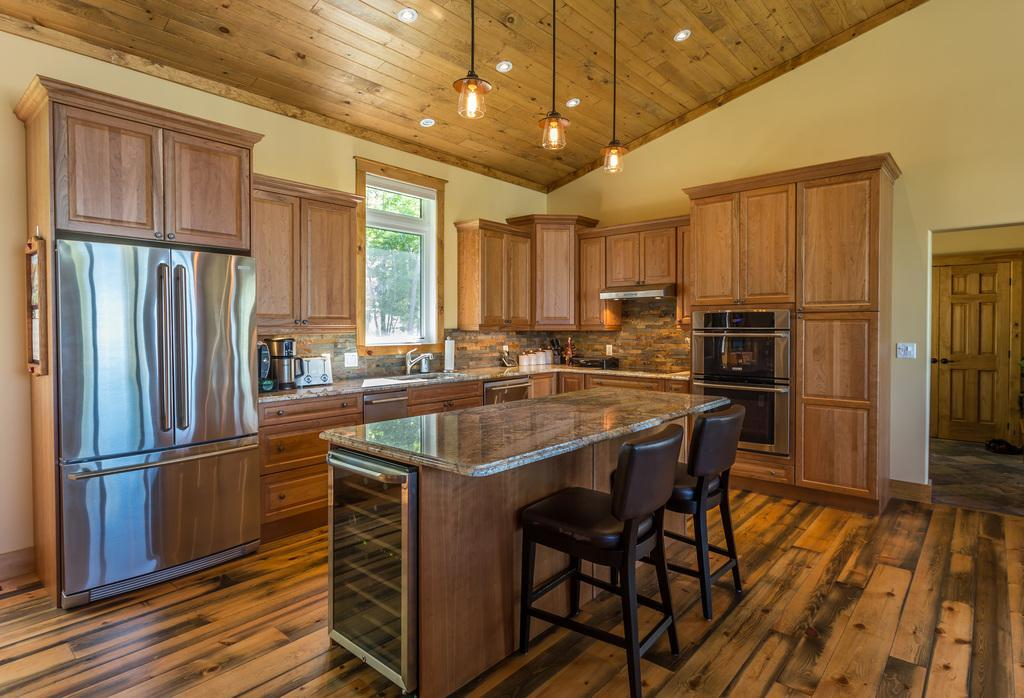door: (932, 257, 1023, 449)
